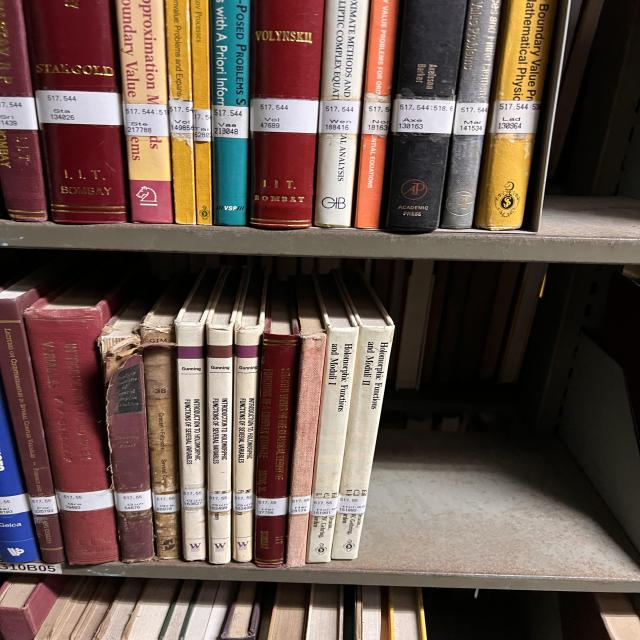Book: (25, 268, 127, 564), (25, 0, 128, 224), (0, 259, 73, 564), (385, 0, 467, 231), (475, 0, 557, 230), (332, 270, 395, 560), (250, 0, 325, 229), (140, 276, 192, 559), (307, 274, 358, 562), (442, 0, 500, 229), (175, 268, 220, 561), (255, 279, 300, 568), (117, 0, 173, 222), (285, 275, 327, 566), (315, 0, 368, 228), (207, 268, 243, 564), (232, 269, 268, 562), (353, 0, 398, 229), (107, 355, 155, 562), (210, 0, 250, 225), (165, 0, 197, 224), (0, 389, 40, 561), (190, 0, 212, 225)
Label: (35, 90, 122, 125), (250, 99, 318, 134), (392, 99, 455, 134), (490, 101, 540, 134), (318, 100, 362, 134), (123, 104, 168, 136), (0, 96, 38, 130), (57, 489, 115, 511), (212, 105, 248, 139), (453, 102, 488, 135), (362, 101, 390, 136), (168, 100, 193, 134), (115, 490, 152, 511), (0, 494, 30, 515), (152, 492, 180, 514), (193, 109, 212, 141), (255, 498, 288, 516), (337, 495, 367, 514), (30, 496, 58, 515), (288, 495, 312, 515), (208, 492, 232, 512), (312, 498, 338, 516), (182, 488, 205, 508), (233, 492, 253, 512)
